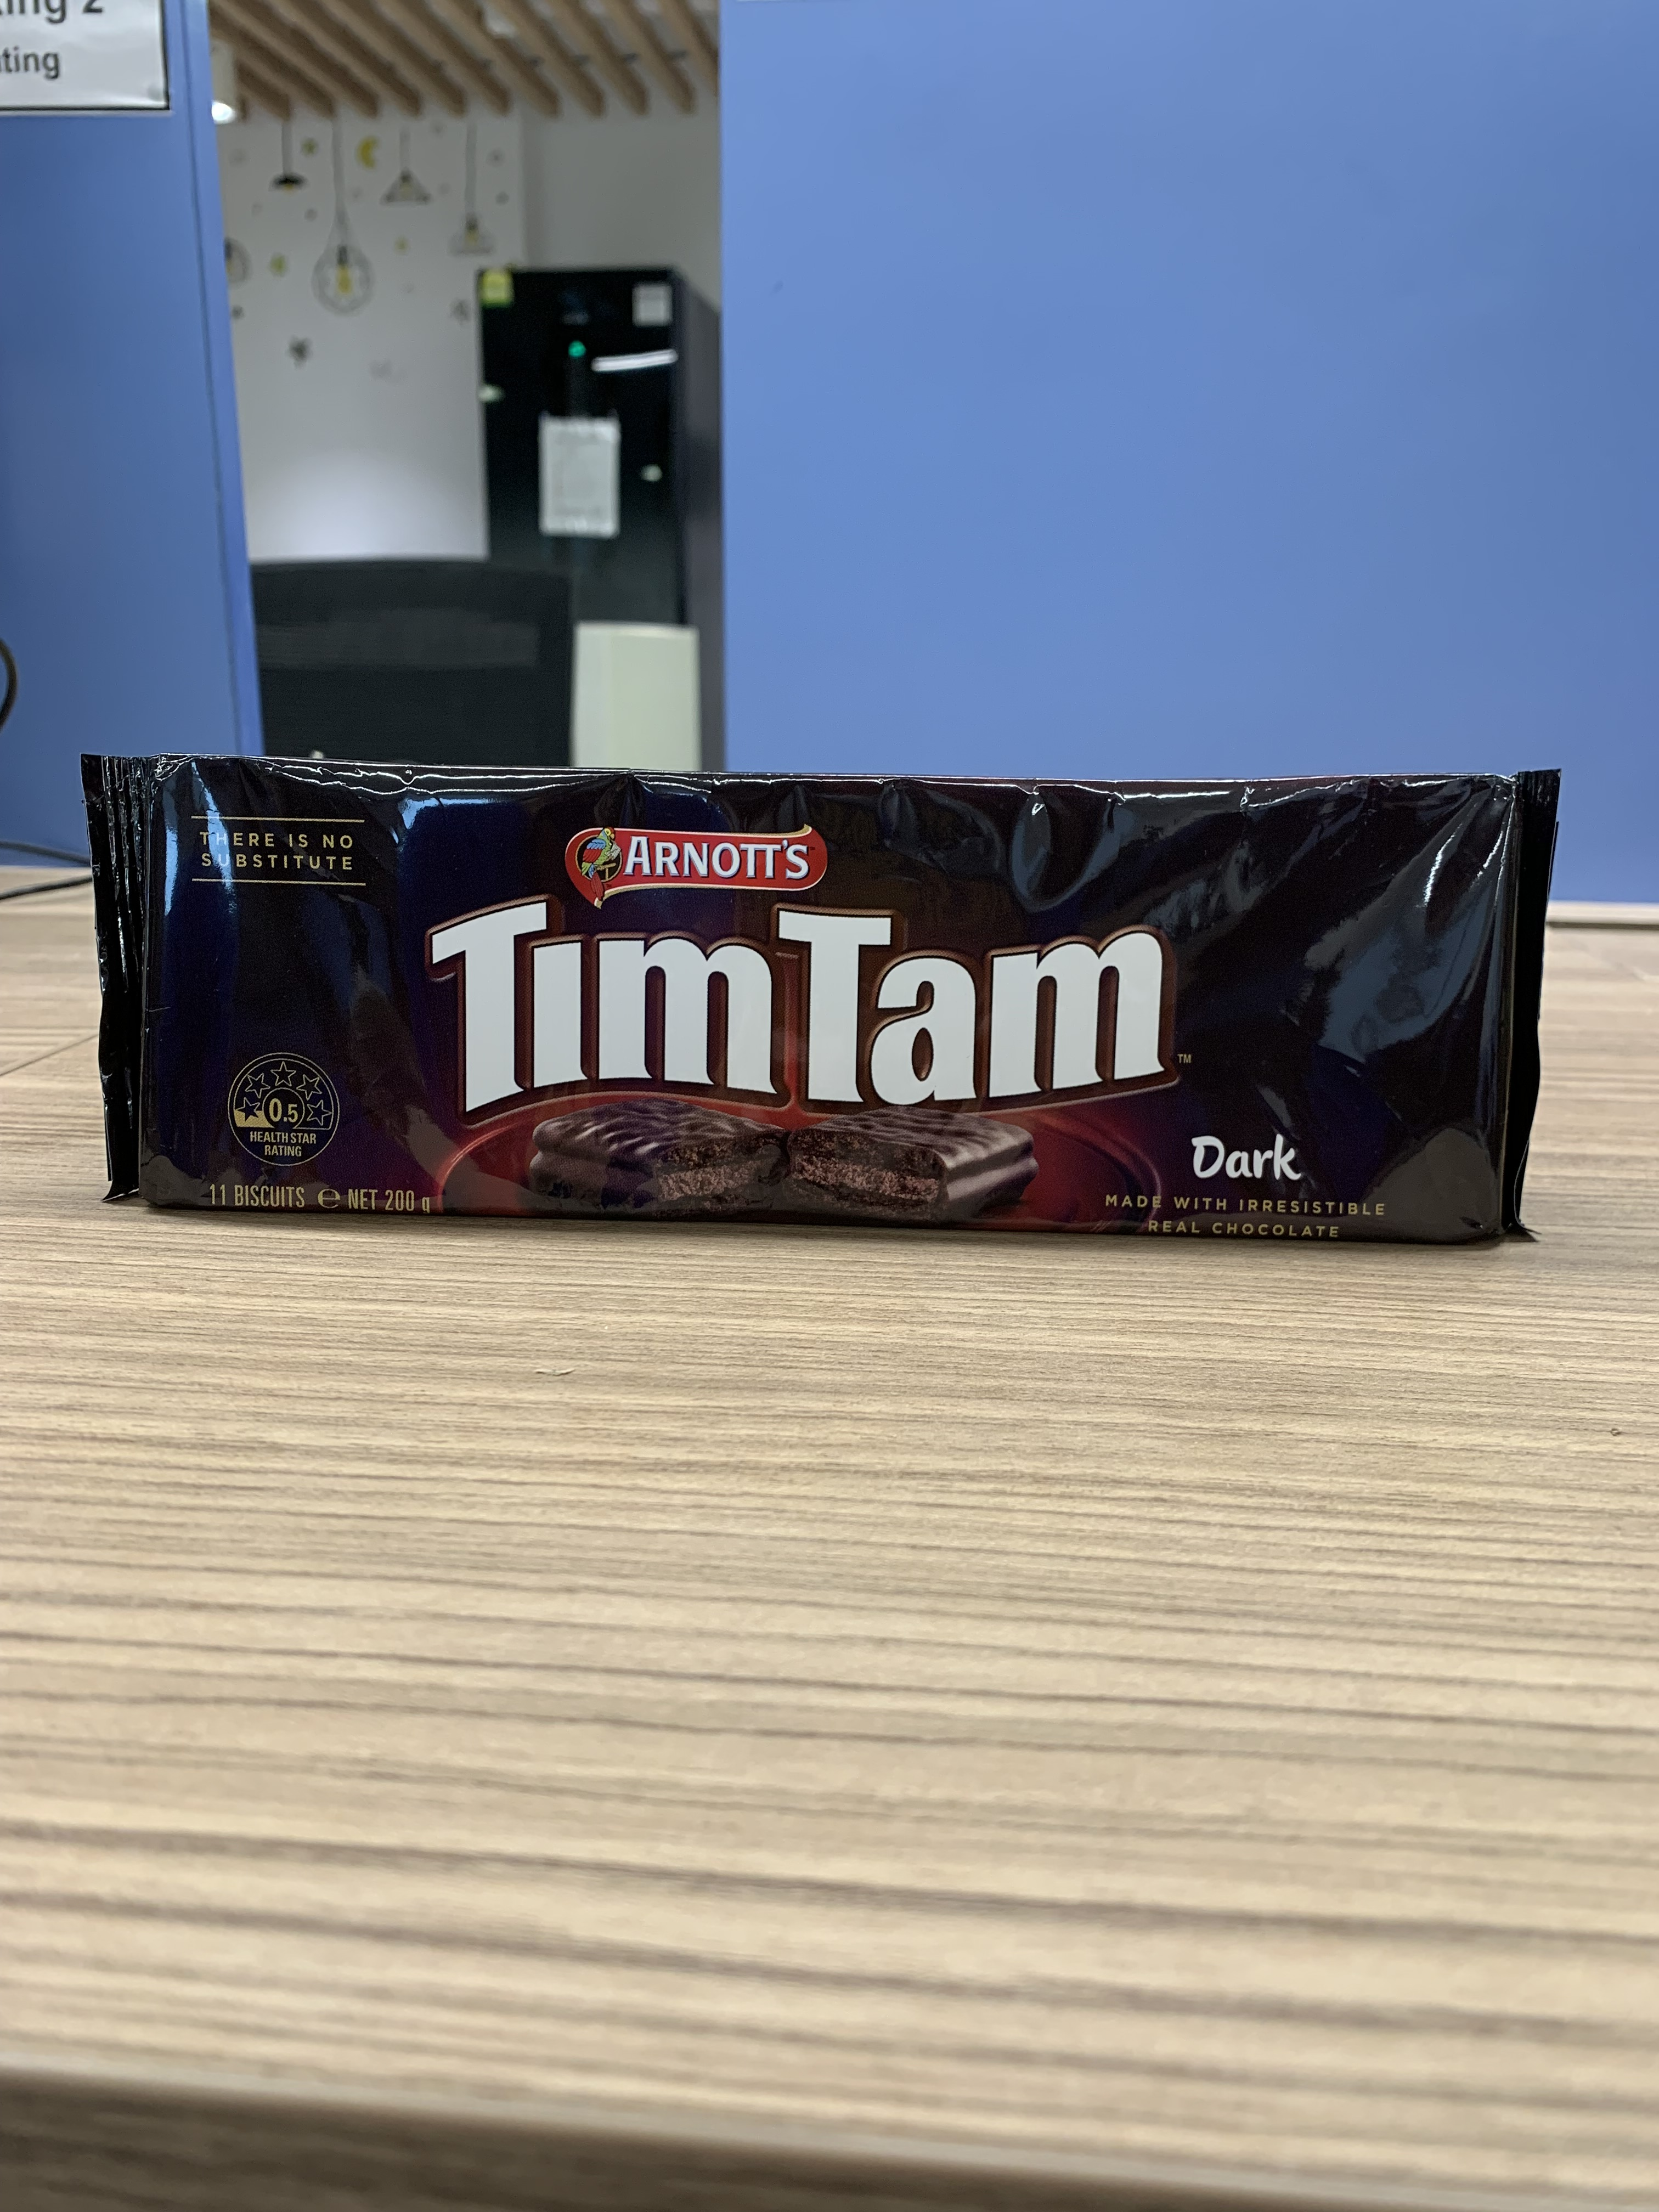cookies_200g-299g: (148, 784, 1495, 1237)
